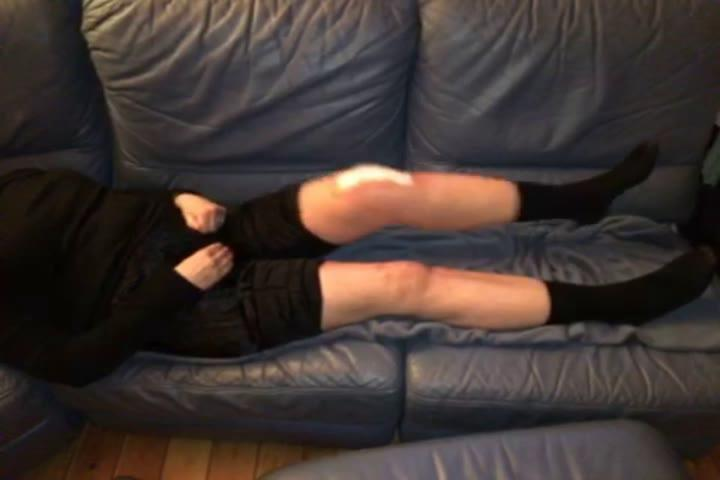lower_body: (161, 127, 717, 372)
